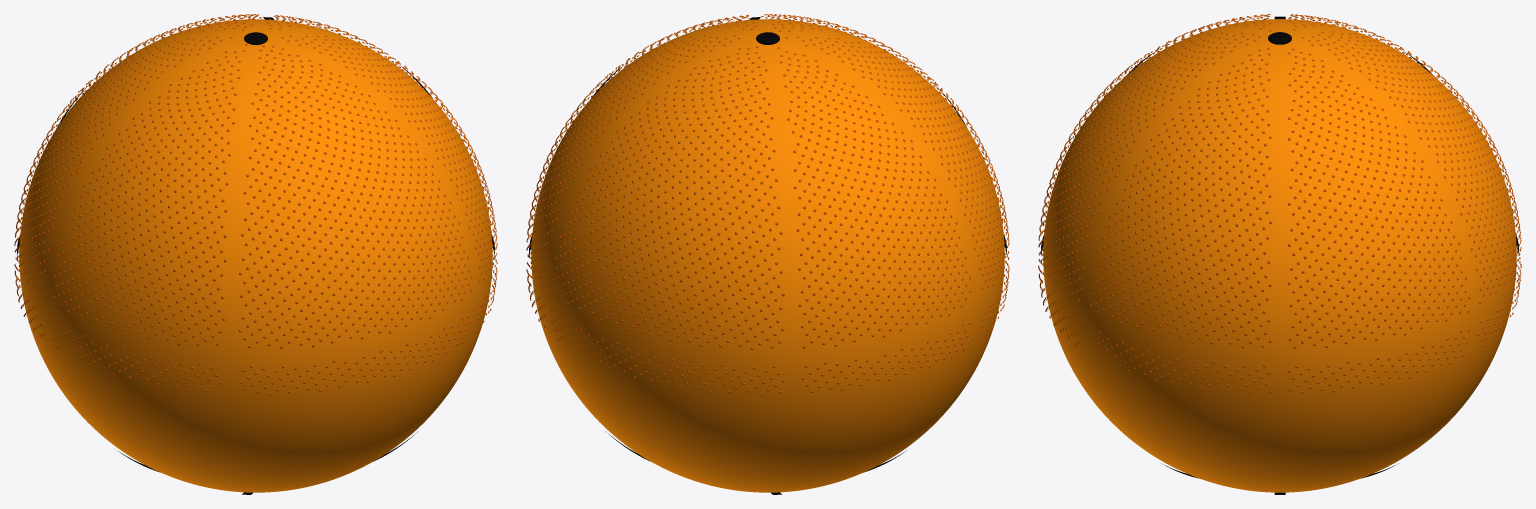
The model's file is Basketball_3D_v2.glb.
The picture shows the model from 3 angles, left to right: view 1: azimuth 30°, elevation 25°; view 2: azimuth 150°, elevation 25°; view 3: azimuth 270°, elevation 25°; orthographic projection.
Visible parts, largest first — view 1: Basketball_3D_v2_new_v2_basketball_pebbled_orange, Basketball_3D_v2_new_v2_basketball_shadow_orange, Basketball_3D_v2_new_v2_recessed_black_seams; view 2: Basketball_3D_v2_new_v2_basketball_pebbled_orange, Basketball_3D_v2_new_v2_basketball_shadow_orange, Basketball_3D_v2_new_v2_recessed_black_seams; view 3: Basketball_3D_v2_new_v2_basketball_pebbled_orange, Basketball_3D_v2_new_v2_basketball_shadow_orange, Basketball_3D_v2_new_v2_recessed_black_seams.
Boxes of the visible parts, bbox=[...] form: Basketball_3D_v2_new_v2_basketball_pebbled_orange: bbox=[19, 19, 492, 492]; Basketball_3D_v2_new_v2_basketball_shadow_orange: bbox=[14, 14, 497, 395]; Basketball_3D_v2_new_v2_recessed_black_seams: bbox=[17, 17, 494, 494]; Basketball_3D_v2_new_v2_basketball_pebbled_orange: bbox=[531, 19, 1004, 492]; Basketball_3D_v2_new_v2_basketball_shadow_orange: bbox=[526, 14, 1009, 395]; Basketball_3D_v2_new_v2_recessed_black_seams: bbox=[529, 17, 1006, 494]; Basketball_3D_v2_new_v2_basketball_pebbled_orange: bbox=[1043, 19, 1516, 492]; Basketball_3D_v2_new_v2_basketball_shadow_orange: bbox=[1038, 14, 1521, 393]; Basketball_3D_v2_new_v2_recessed_black_seams: bbox=[1041, 16, 1518, 494].
Bounding box in the file's own units: 0.2488 × 0.2515 × 0.2492.
